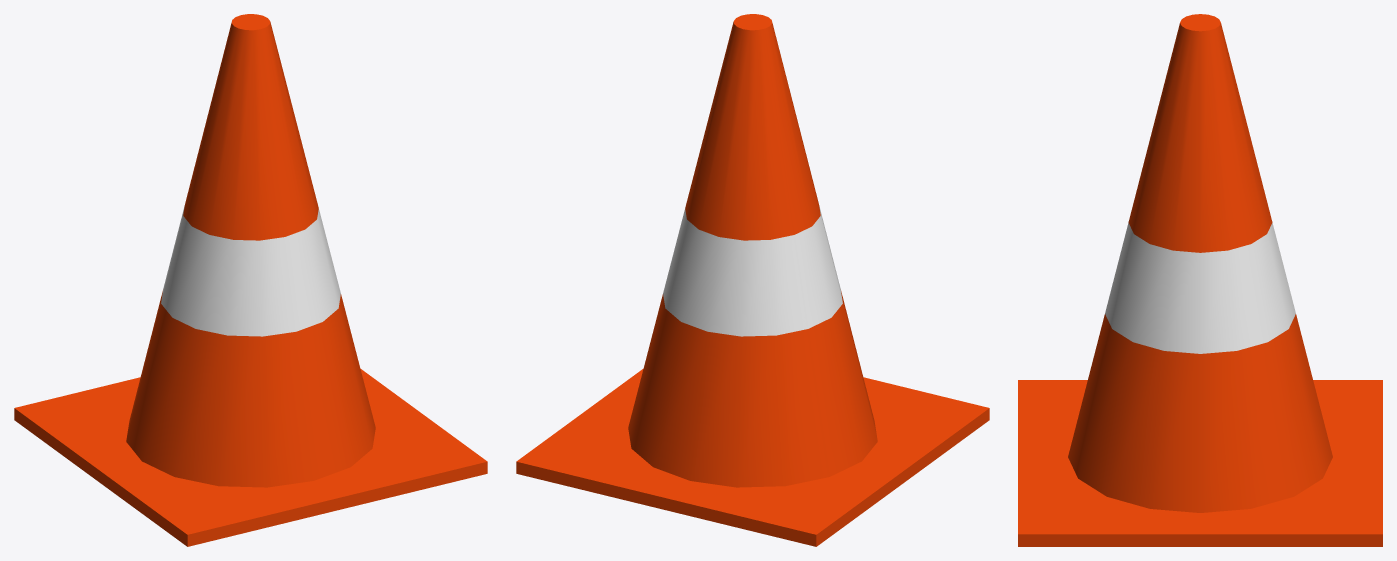
File: cono.FBX
3 renders of one model, left to right at view 1: azimuth 30°, elevation 25°; view 2: azimuth 150°, elevation 25°; view 3: azimuth 270°, elevation 25°, orthographic. The views are drawn at different scales.
Visible parts, largest first — view 1: Cone003; view 2: Cone003; view 3: Cone003.
Part boxes in pixels (x1,y1,x2,y2): Cone003: [14, 14, 487, 546]; Cone003: [516, 14, 989, 546]; Cone003: [1018, 14, 1382, 546].
Size of the model in its own units: 32.64 by 44.15 by 32.64.
